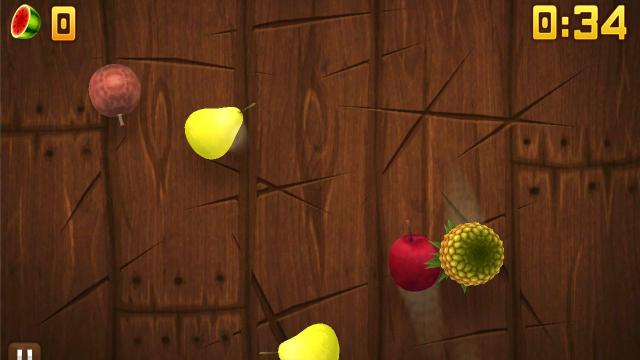fruit: (428, 220, 507, 292), (88, 63, 142, 128), (184, 106, 244, 160), (388, 233, 440, 292), (277, 323, 339, 359)
ignore: (10, 4, 42, 40)
